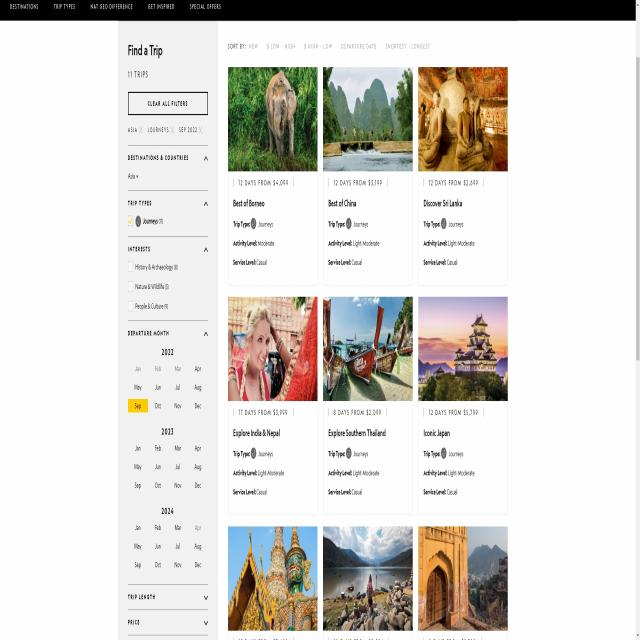menu-panel: (118, 22, 217, 640)
